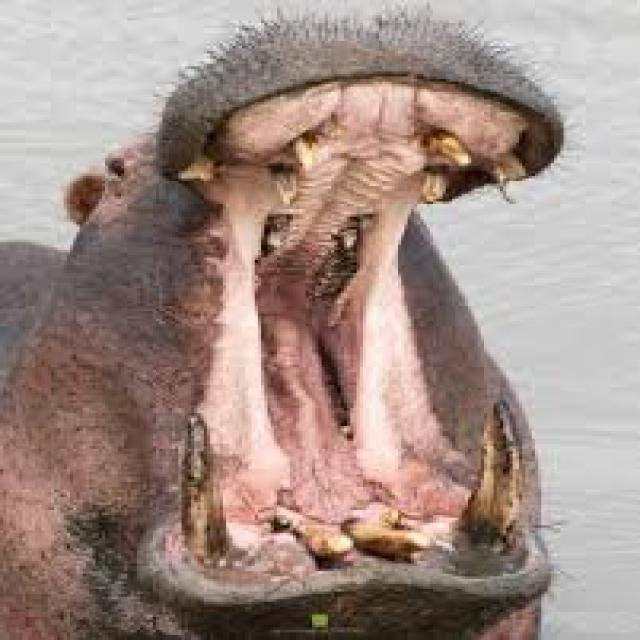Hippopotamus: (12, 8, 590, 640)
